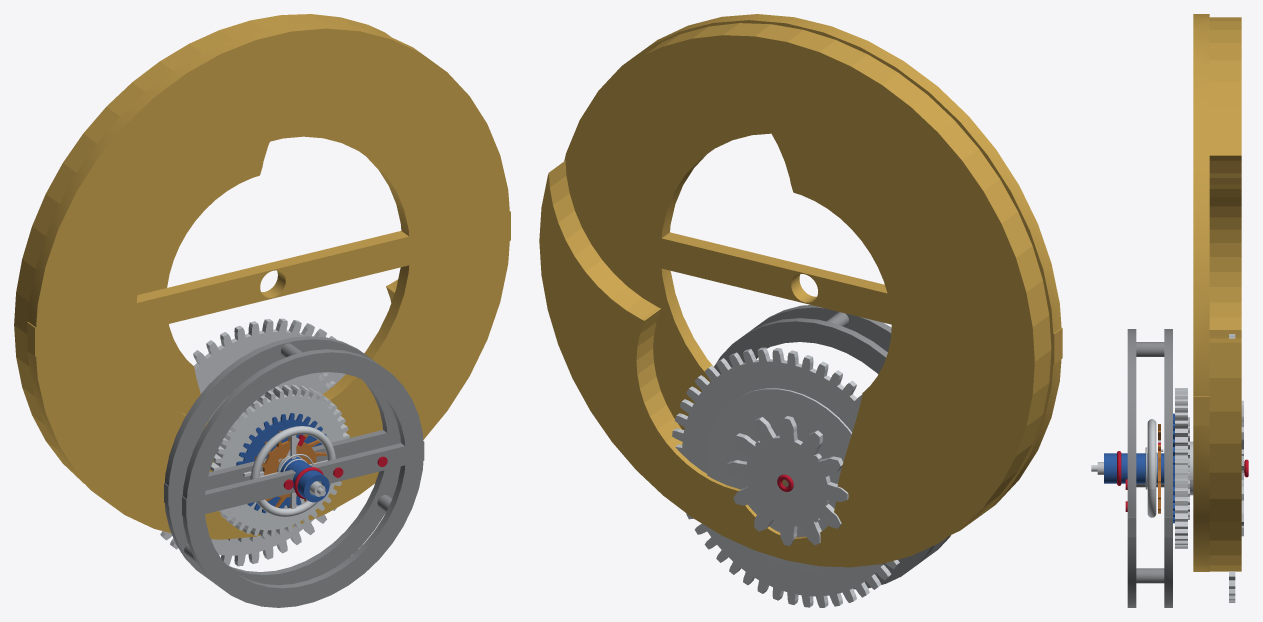
3 views of the same model, side by side, from view 1: azimuth 30°, elevation 25°; view 2: azimuth 150°, elevation 25°; view 3: azimuth 270°, elevation 25° (orthographic). The views are drawn at different scales.
Size of the model in its own units: 52 by 56.89 by 14.65.
